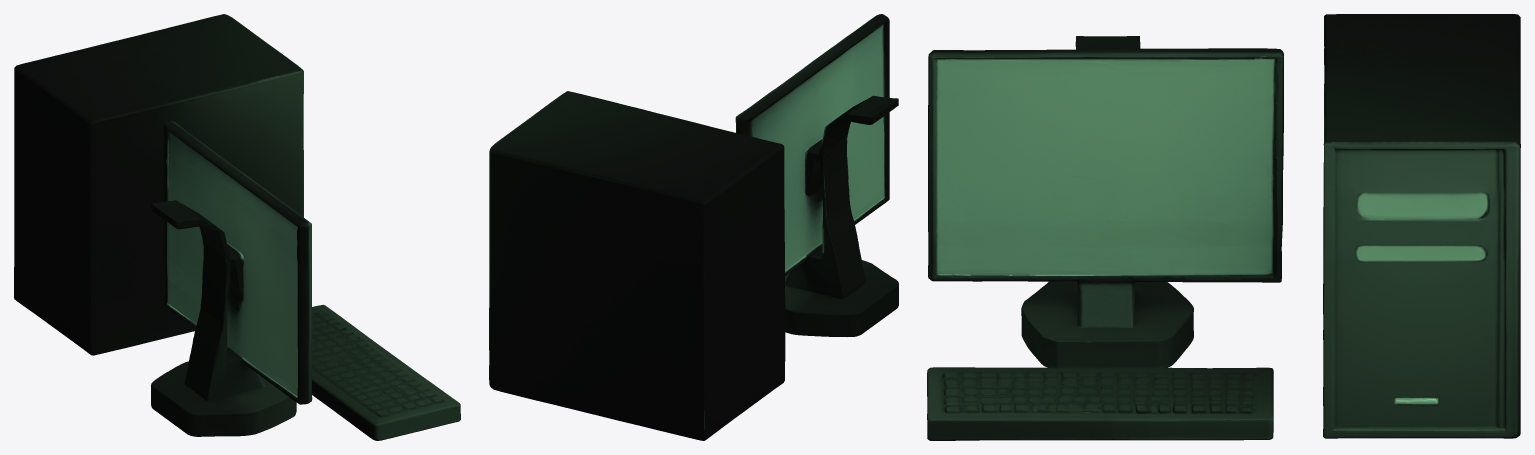
The picture shows the model from 3 angles, left to right: view 1: azimuth 30°, elevation 25°; view 2: azimuth 150°, elevation 25°; view 3: azimuth 270°, elevation 25°; orthographic projection. The views are drawn at different scales.
Visible parts, largest first — view 1: world; view 2: world; view 3: world.
Boxes of the visible parts, x1,y1,x2,y2 form: world: (14,14,460,440); world: (489,14,898,440); world: (927,14,1520,440).
Bounding box in the file's own units: 0.3891 × 0.3891 × 0.7004.
Materials: 1 (1 with a texture image).
